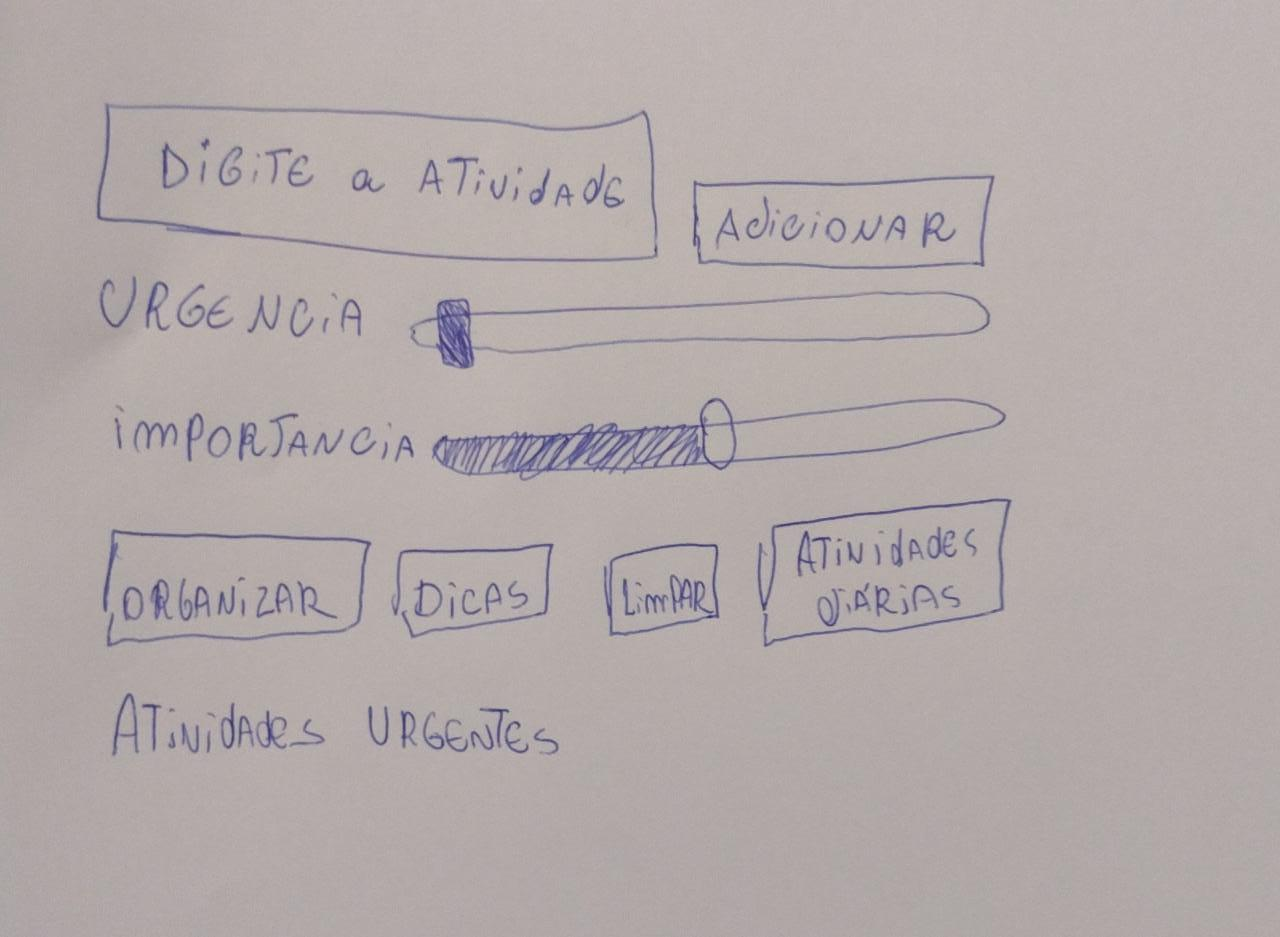Button: (94, 103, 659, 263), (761, 498, 1008, 648), (101, 529, 371, 647), (693, 175, 995, 269), (393, 543, 553, 638), (607, 543, 719, 637)
Label: (108, 694, 559, 756), (112, 405, 417, 464), (99, 275, 365, 338)
Screen: (0, 0, 1279, 936)
Slider: (411, 290, 992, 368), (431, 398, 1006, 476)
